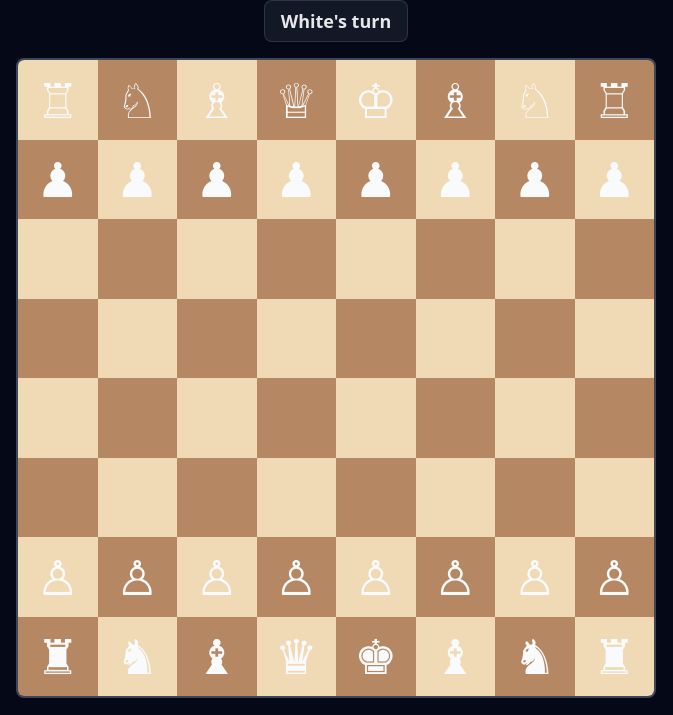
Test case: ChessBoard › Interaction calling the rules engine for validation › should apply legal moves and update the board
This screenshot has width=673, height=715.
Expected: the cell named "square e2" reads "♙", [354, 544, 397, 609]
Expected: the cell named "square e4" does not show "♙", [336, 378, 416, 458]
Click the cell named "square e2" at (376, 577), box [336, 537, 416, 616]
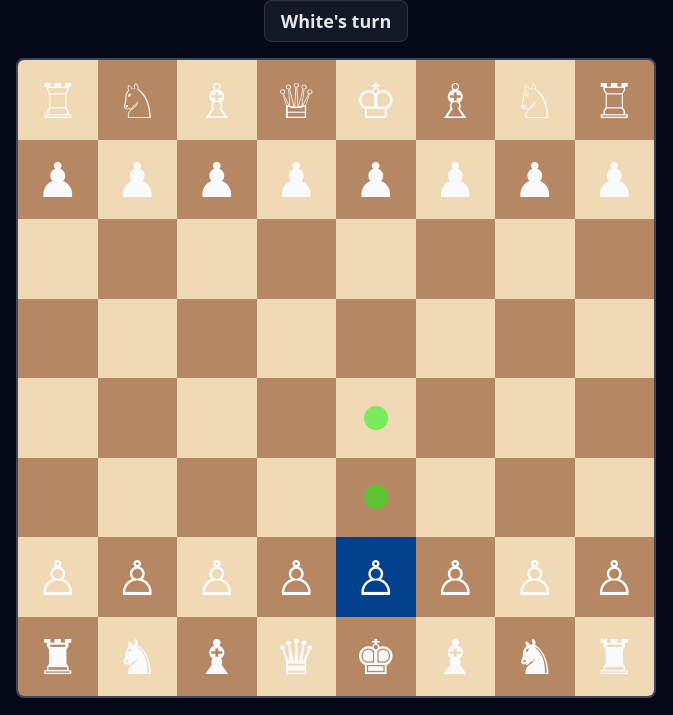
Click the cell named "square e4" at (376, 418), box [336, 378, 416, 458]
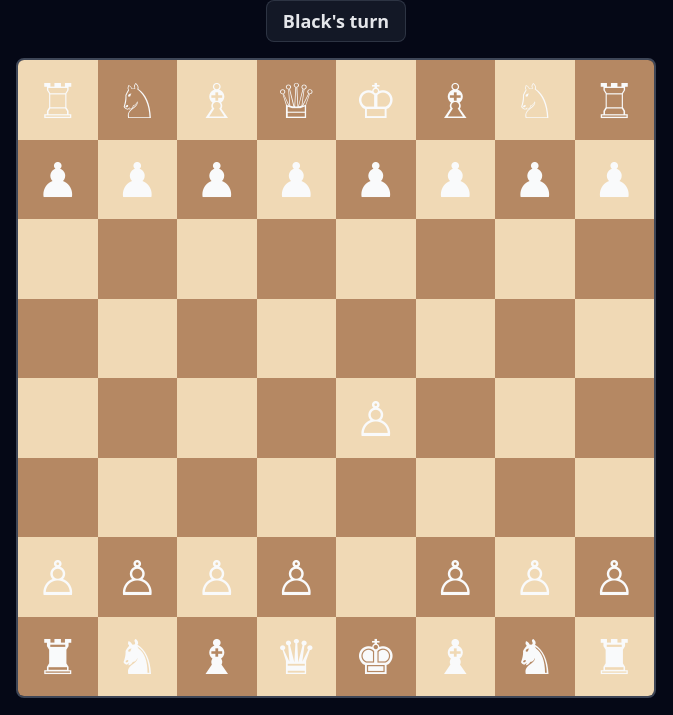
Expected: the cell named "square e2" does not show "♙", [336, 537, 416, 616]
Result: the cell named "square e4" reads "♙" at [354, 385, 397, 450]
